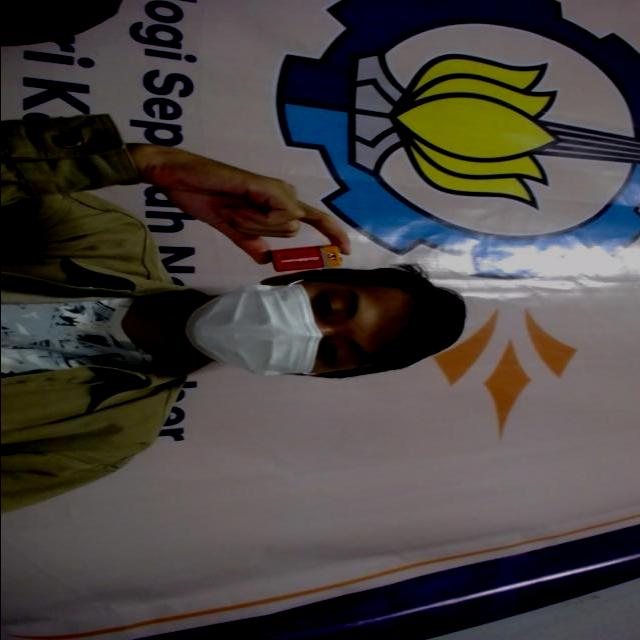9V: (261, 237, 350, 277)
